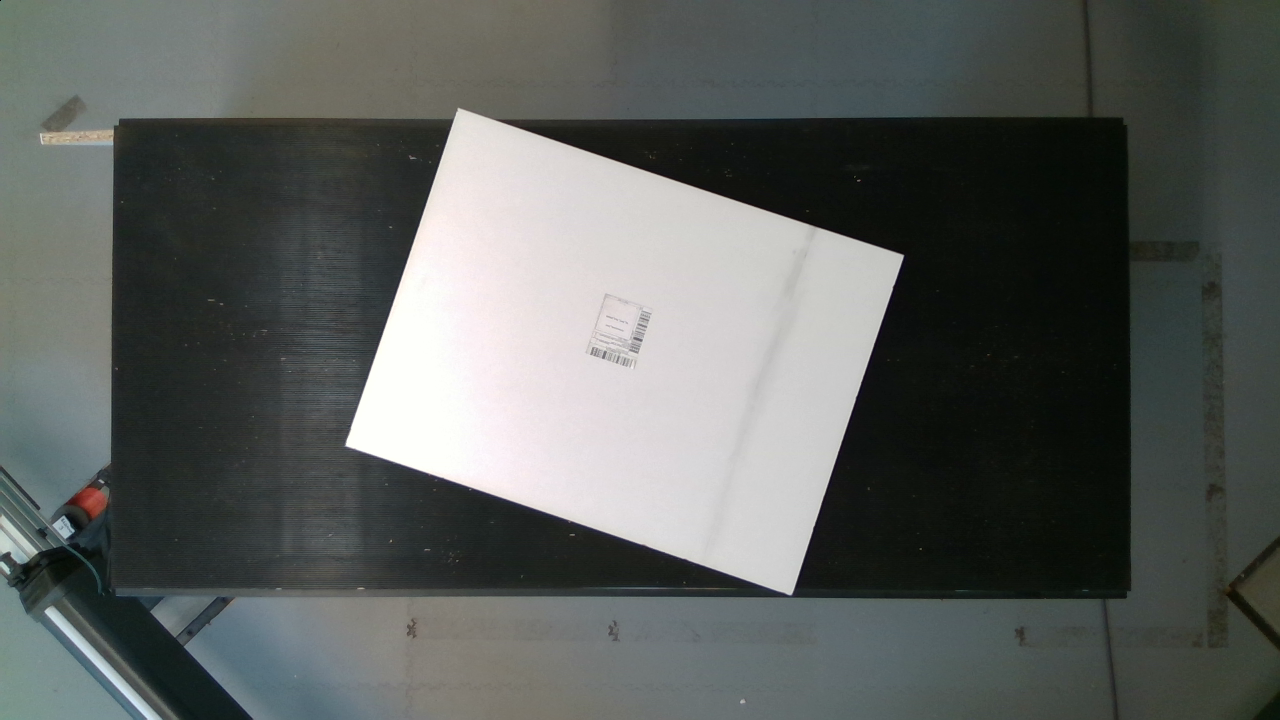barcode: (580, 279, 661, 377)
part2: (339, 95, 913, 605)
